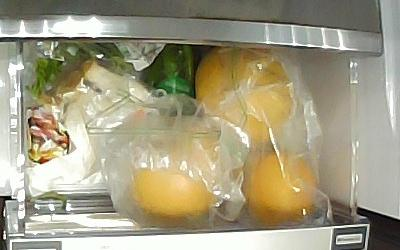pear_vinyl: (196, 47, 293, 144), (131, 135, 224, 224), (231, 150, 317, 226)
